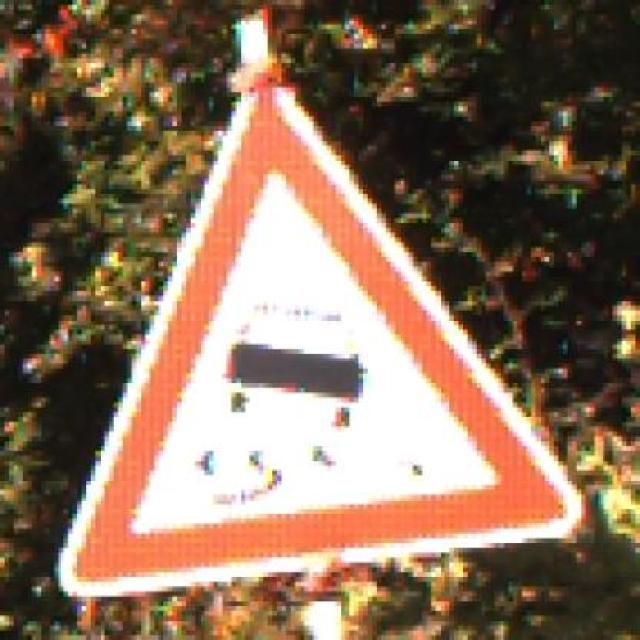Slippery Road Ahead: (46, 93, 586, 602)
